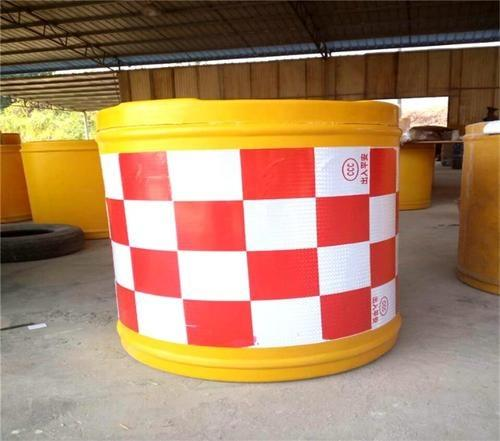cone_barrel: (92, 99, 402, 386)
